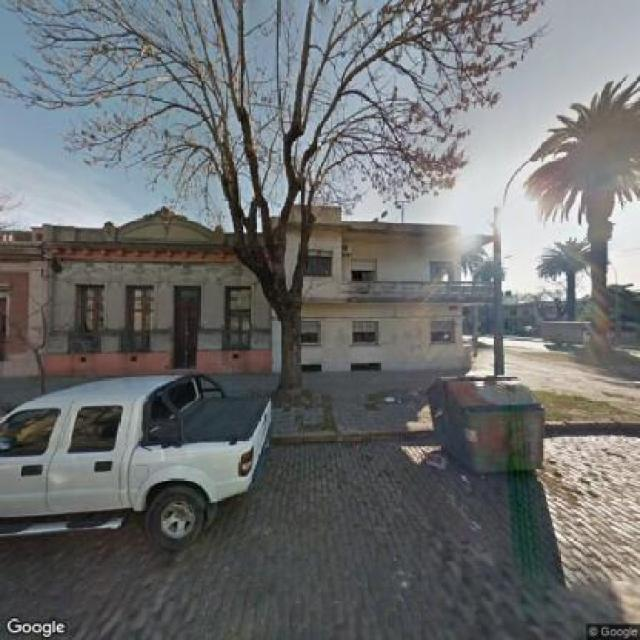garbage: (415, 440, 460, 489)
